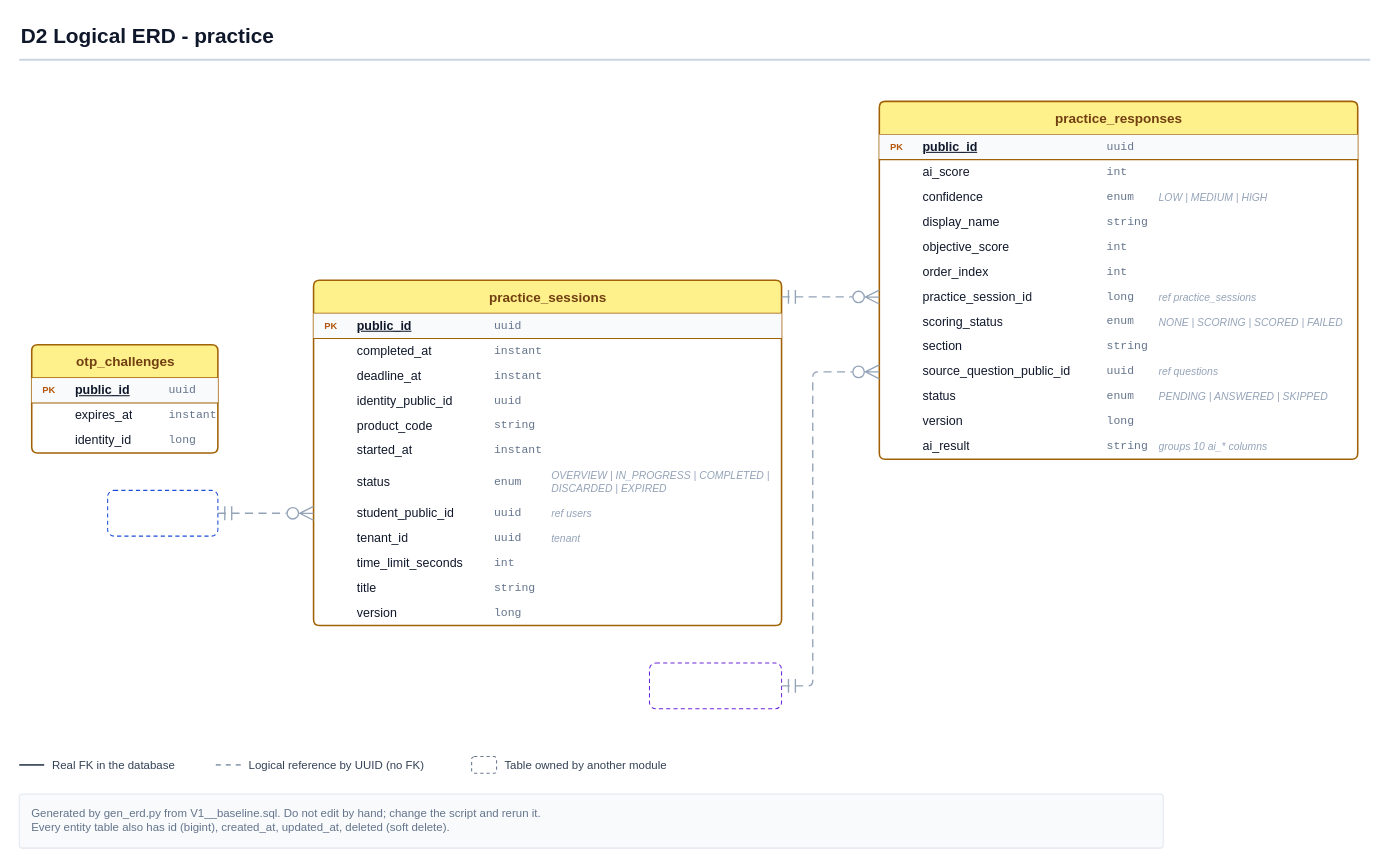
Some shapes in this 1388 by 866 pixel diagram are drawn without their labels. Here are the shapes that lost their labels. From the top down, the centre of each, then its label:
the point at 162,512: users → d2-logical-org
the point at 715,685: questions → d2-logical-content
